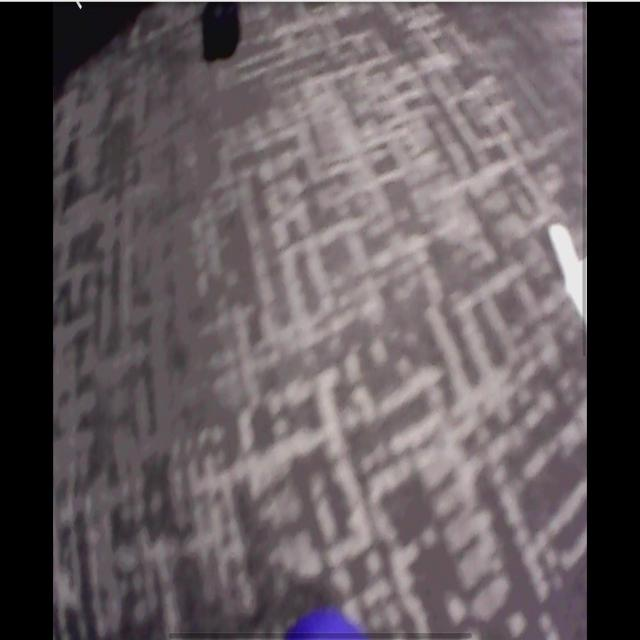ball: (285, 612, 368, 640)
